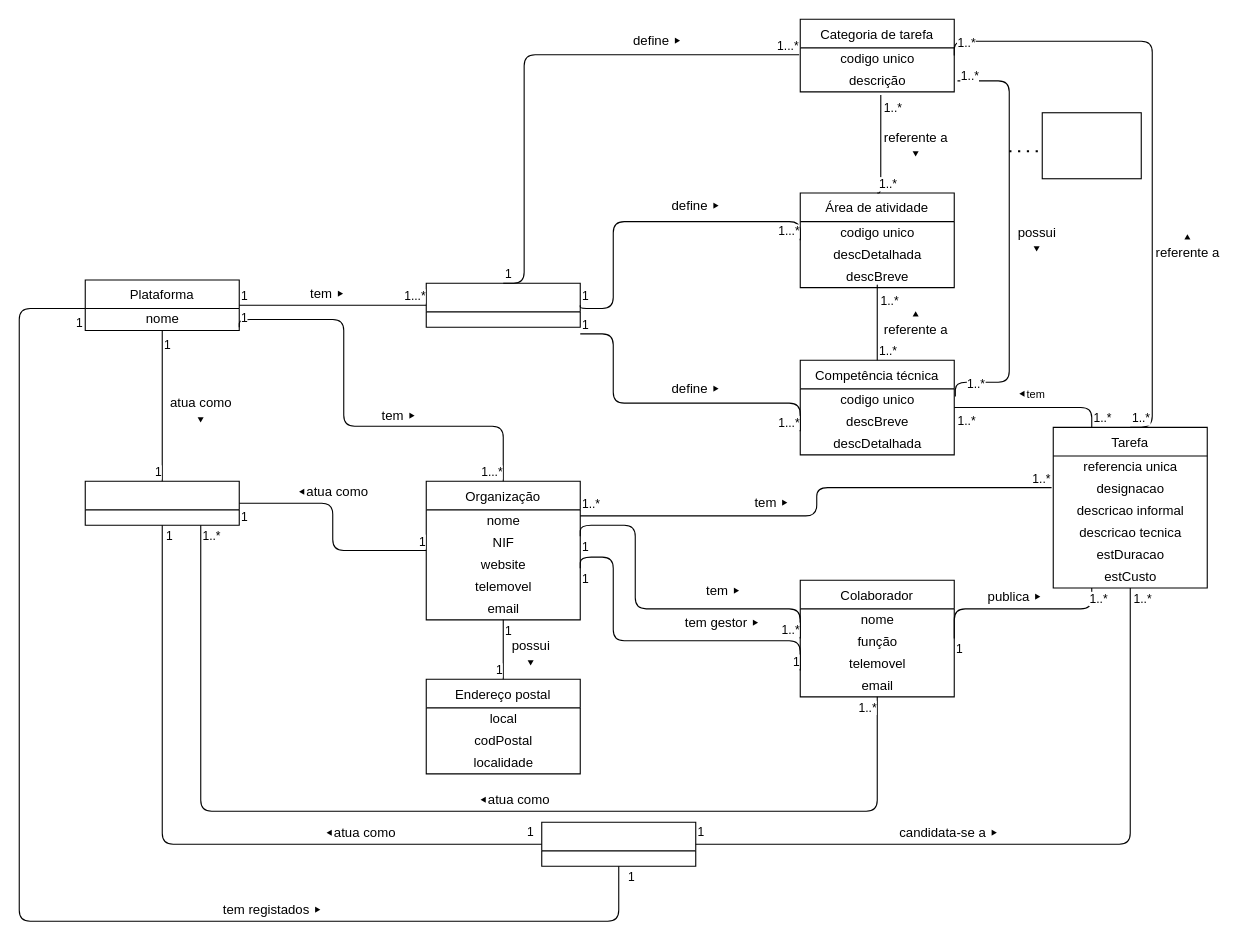
Some shapes in this 1245 by 942 pixel diagram are drawn without their labels. Here are the shapes that lost their labels. From the top down, the centre of each, then its label:
At point 1091,145: "obrigatoriedade".
At point 502,304: "Administrativo".
At point 161,502: "Utilizador".
At point 618,843: "Freelancer".
